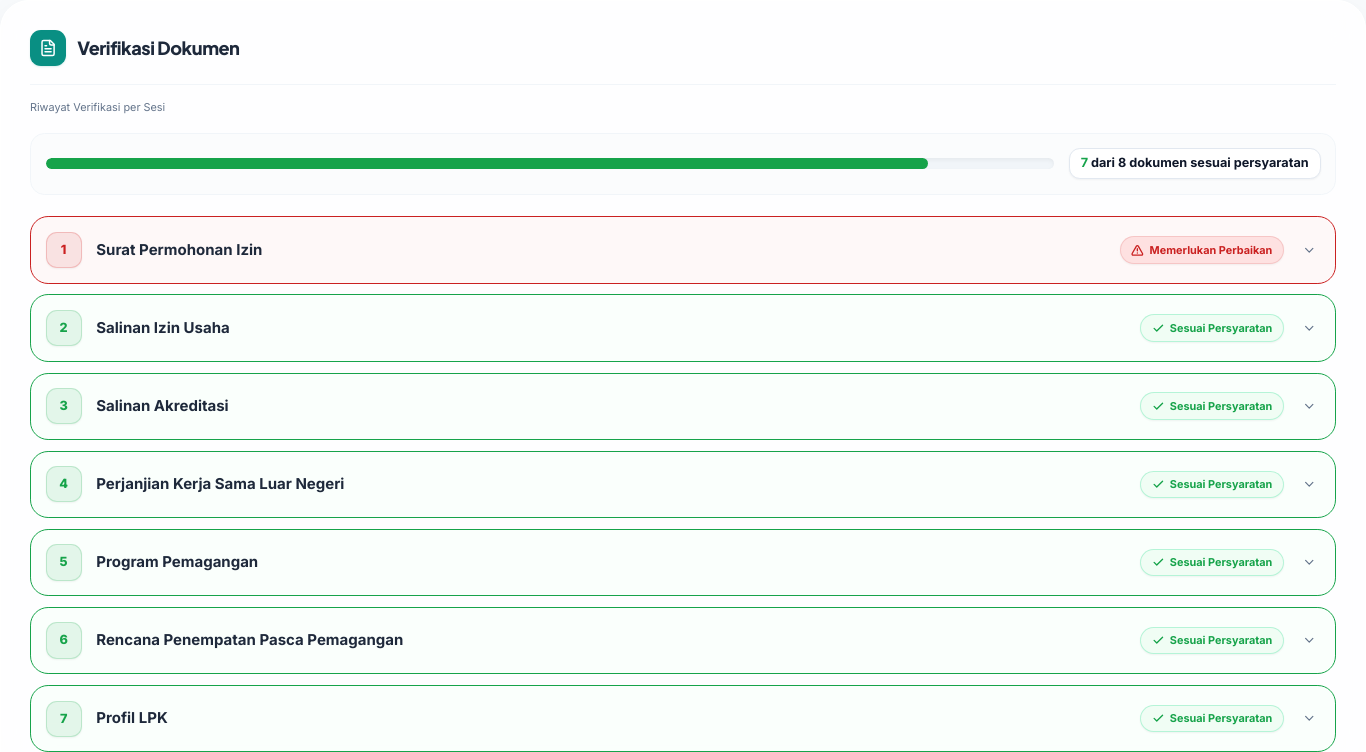
Test: session flow › requires confirmation before applicant revision upload is stored
Later steps or results of the test are not shown.
What coordinates should you click on to do the following:
click the button "1 Surat Permohonan Izin Memerlukan Perbaikan"
I would click on:
 (64, 250)
Its box is [31,217,1335,283].
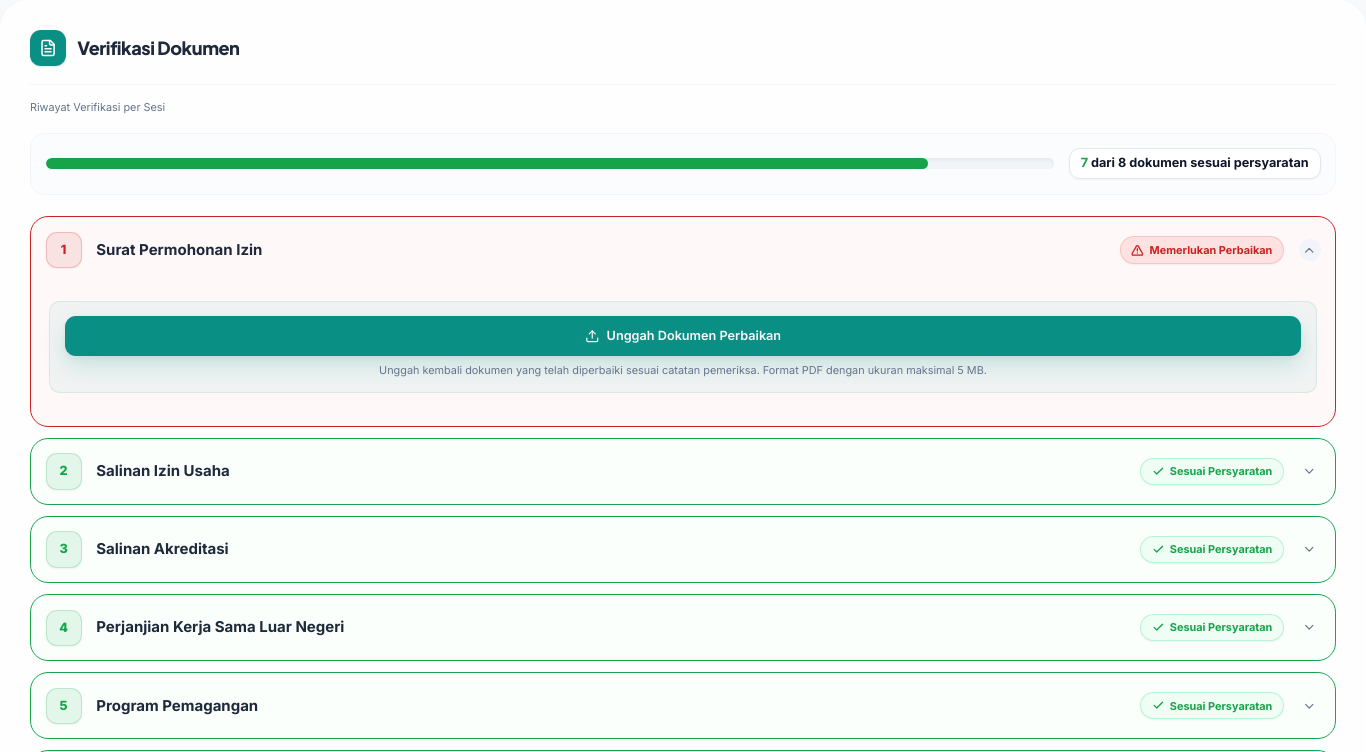
Check: the file field labelled "Unggah Dokumen Perbaikan" is shown, box [65,316,1301,356]
